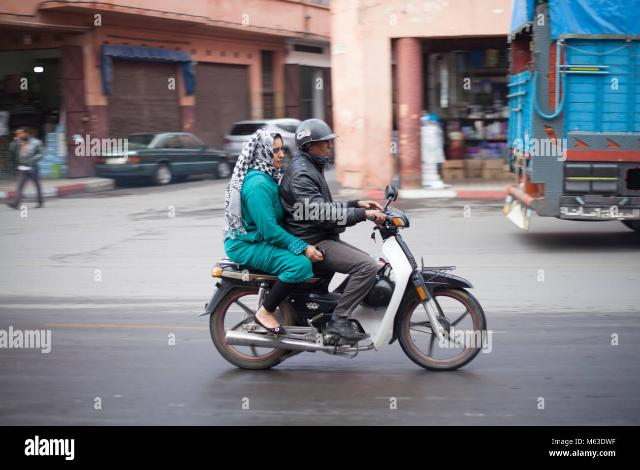helm: (297, 120, 340, 160)
motor: (211, 183, 488, 373)
non-helm: (255, 131, 285, 169)
